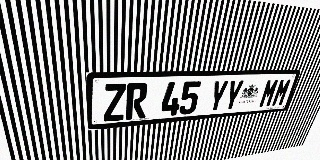4: (160, 82, 183, 117)
5: (179, 81, 201, 115)
M: (258, 79, 280, 108), (271, 78, 293, 107)
R: (126, 83, 148, 120)
Y: (222, 80, 245, 111), (207, 80, 229, 112)
Z: (103, 83, 126, 122)
